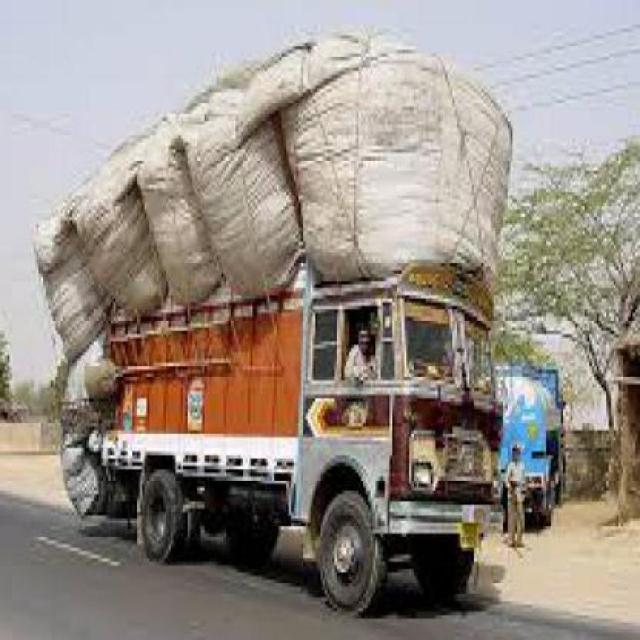goods: (32, 29, 512, 517)
truck: (94, 266, 500, 616)
